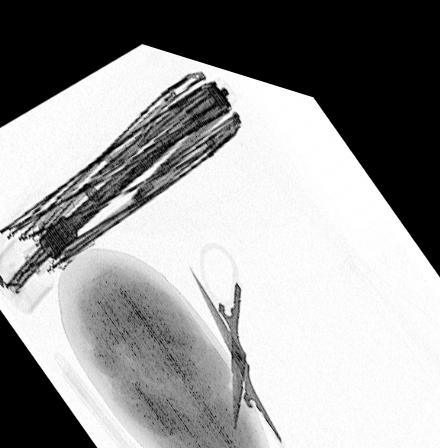Scissors: (182, 224, 296, 448)
